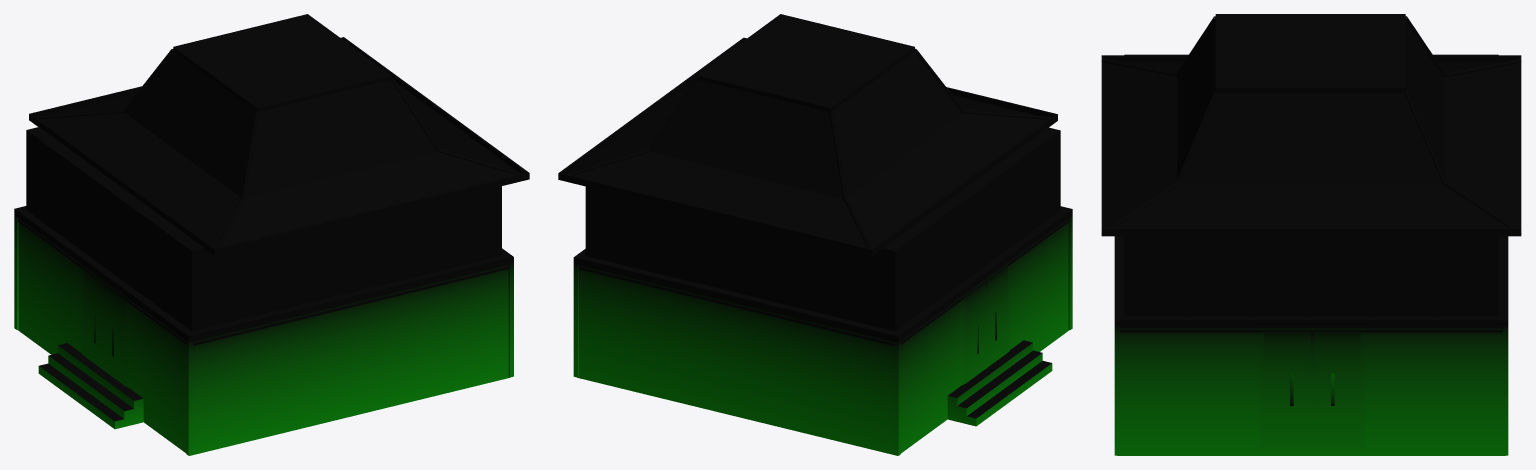
The model's file is l_residencecore.glb.
3 views of the same model, side by side, from view 1: azimuth 30°, elevation 25°; view 2: azimuth 150°, elevation 25°; view 3: azimuth 270°, elevation 25° (orthographic). The views are drawn at different scales.
Visible parts, largest first — view 1: lod0; view 2: lod0; view 3: lod0.
Boxes of the visible parts, left/top/right/bottom form: lod0: left=14, top=14, right=529, bottom=455; lod0: left=558, top=14, right=1072, bottom=455; lod0: left=1101, top=14, right=1521, bottom=455.
Size of what is drawn, in the model's own units: 26.39 by 20.1 by 23.47.
